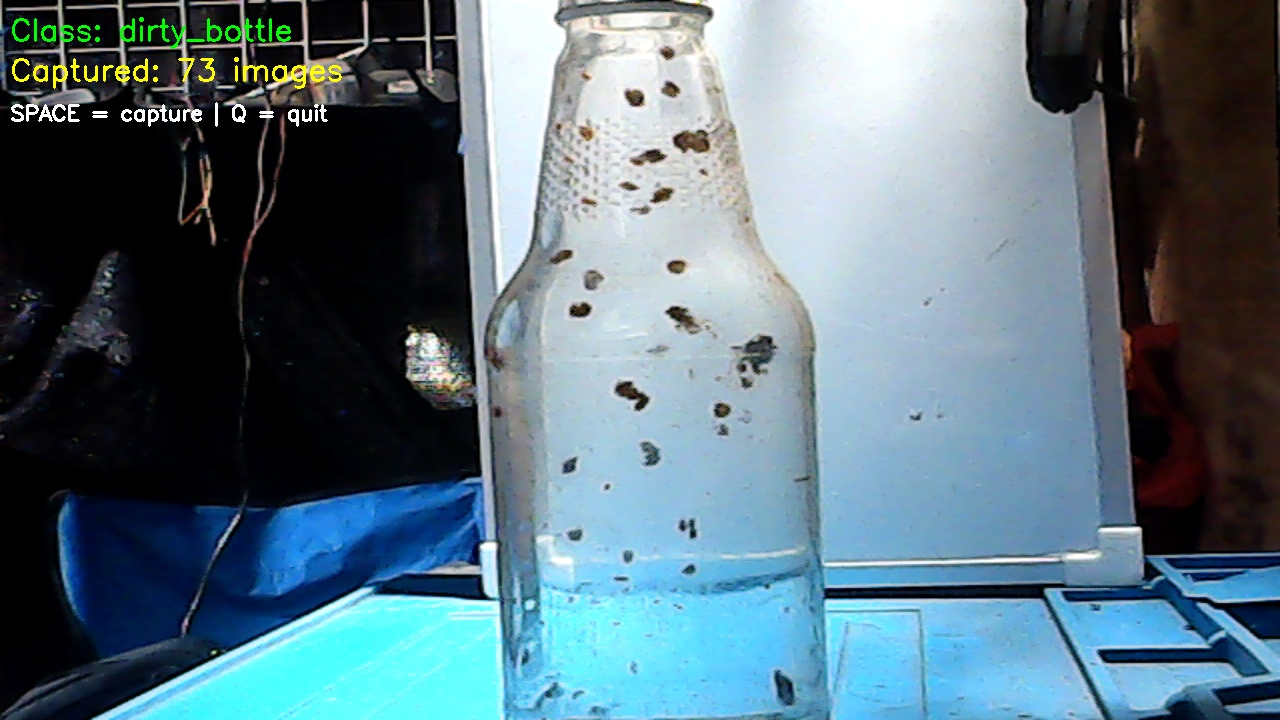dirty_bottle: (475, 1, 835, 718)
